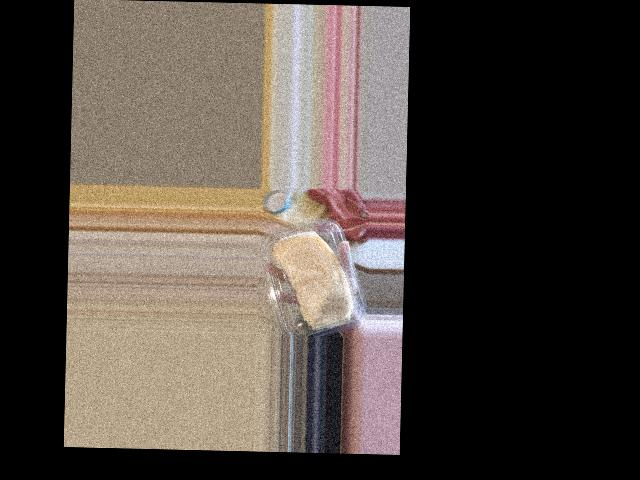cheese: (261, 215, 361, 338)
